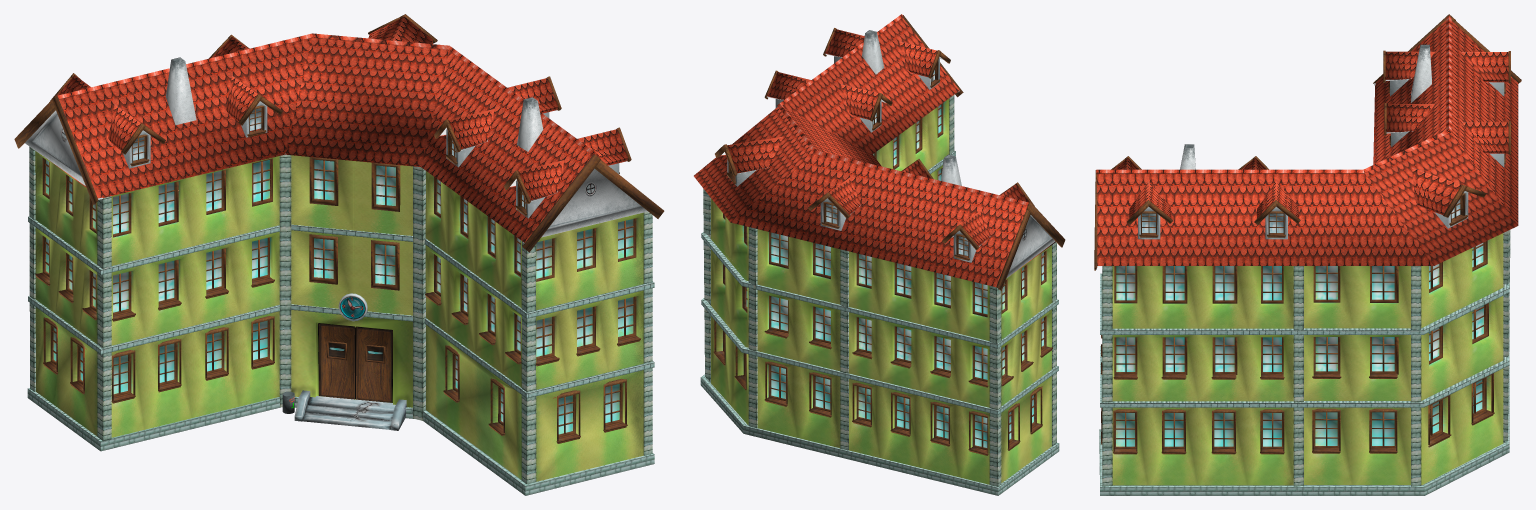
The model's file is School_01.FBX.
3 views of the same model, side by side, from view 1: azimuth 30°, elevation 25°; view 2: azimuth 150°, elevation 25°; view 3: azimuth 270°, elevation 25° (orthographic). The views are drawn at different scales.
Visible parts, largest first — view 1: Home1_low, Object001, Line004, Line003, Line008, Home1_low005, Box053, Box050, Box051, Box052, Line007, Box054 (+3 smaller); view 2: Object001, Home1_low001, Home1_low003, Home1_low, Object002, Line004, Home1_low005, Line003, Box059, Line008, Box057, Line007 (+4 smaller); view 3: Object001, Home1_low002, Home1_low004, Object002, Line004, Home1_low, Line008, Line003, Line007, Box054, Box055, Box056 (+4 smaller).
Boxes of the visible parts, box(x1,y1,x2,y2) form: Home1_low: box(14, 57, 664, 481); Object001: box(46, 37, 605, 242); Line004: box(27, 388, 654, 495); Line003: box(28, 216, 654, 318); Line008: box(28, 296, 654, 398); Home1_low005: box(434, 109, 564, 218); Box053: box(97, 196, 111, 440); Box050: box(521, 241, 536, 484); Box051: box(413, 166, 425, 420); Box052: box(279, 153, 291, 407); Line007: box(57, 33, 597, 155); Box054: box(643, 211, 652, 455); Object001: box(694, 17, 1055, 287); Home1_low001: box(849, 209, 990, 484); Home1_low003: box(757, 177, 861, 447); Home1_low: box(862, 15, 1065, 482); Object002: box(711, 136, 782, 424); Line004: box(700, 374, 1059, 495); Home1_low005: box(840, 41, 950, 132); Line003: box(701, 151, 1058, 348); Box059: box(989, 286, 1001, 486); Line008: box(701, 298, 1058, 414); Box057: box(748, 227, 757, 428); Line007: box(777, 14, 1028, 205); Object001: box(1097, 20, 1518, 265); Home1_low002: box(1112, 181, 1300, 485); Home1_low004: box(1304, 266, 1410, 484); Object002: box(1412, 167, 1503, 484); Line004: box(1099, 365, 1509, 495); Home1_low: box(1094, 14, 1521, 444); Line008: box(1100, 320, 1509, 407); Line003: box(1100, 273, 1509, 334); Line007: box(1096, 16, 1451, 173); Box054: box(1102, 266, 1112, 486); Box055: box(1293, 266, 1303, 486); Box056: box(1411, 266, 1421, 486).
Bounding box in the file's own units: 108 × 85.57 × 105.
